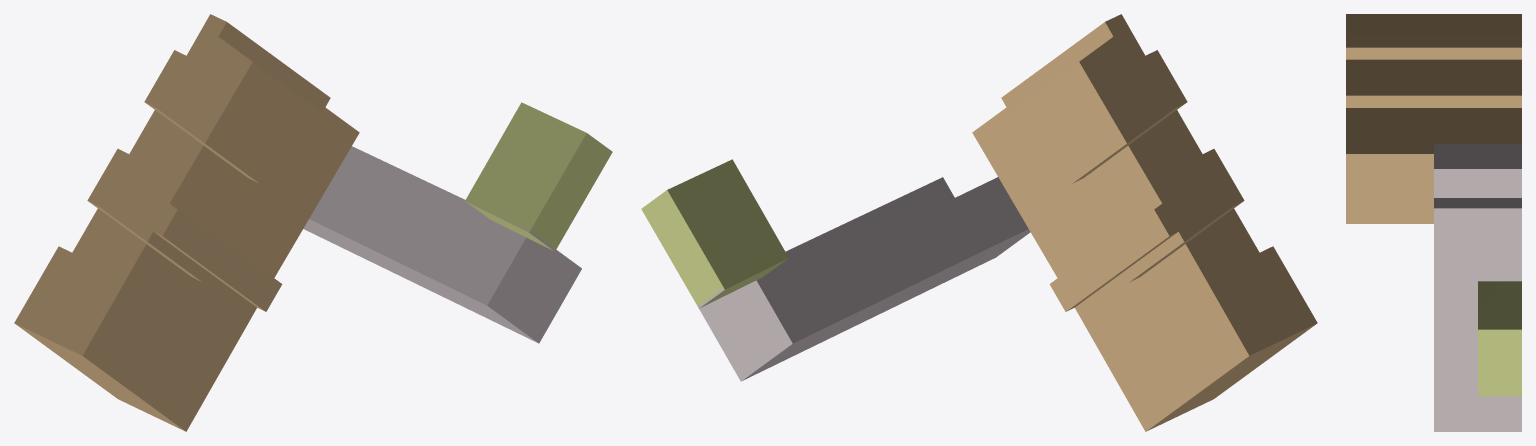
The picture shows the model from 3 angles, left to right: view 1: azimuth 30°, elevation 25°; view 2: azimuth 150°, elevation 25°; view 3: azimuth 270°, elevation 25°; orthographic projection. The views are drawn at different scales.
Visible parts, largest first — view 1: 0_1_0_0_2_2_2; view 2: 0_1_0_0_2_2_2; view 3: 0_1_0_0_2_2_2.
Part boxes in pixels (box(x1,y1,x2,y2)): 0_1_0_0_2_2_2: box(14, 14, 612, 431); 0_1_0_0_2_2_2: box(641, 14, 1317, 431); 0_1_0_0_2_2_2: box(1346, 14, 1521, 431).
Size of the model in its own units: 76.39 by 45.79 by 24.
